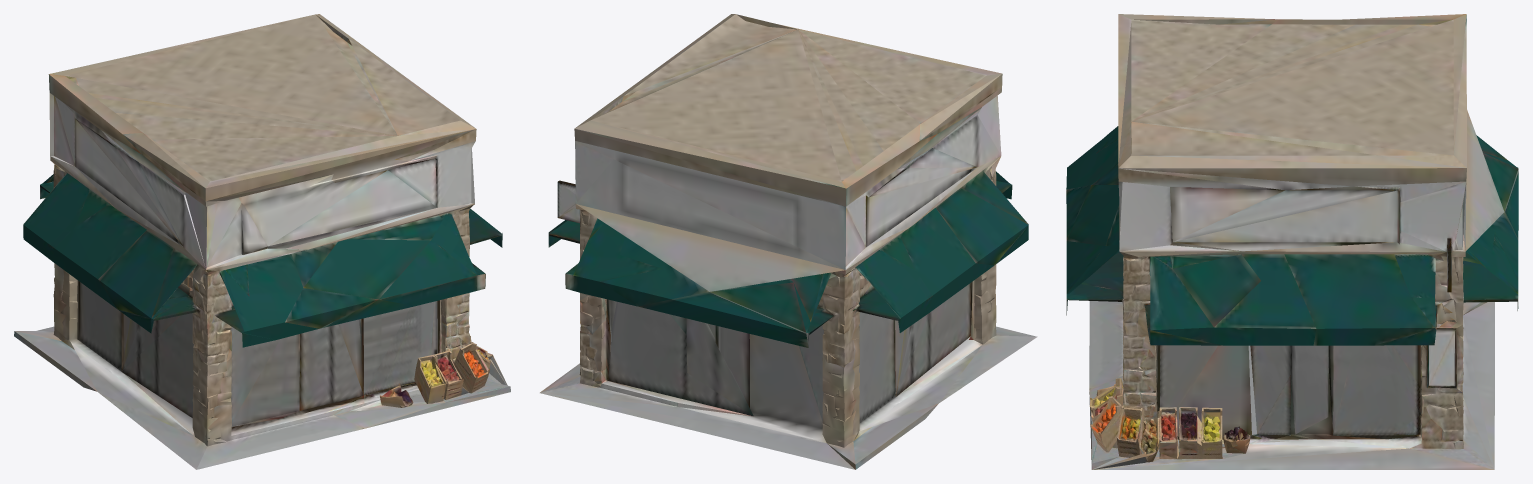
The model's file is filler_food_grocery.glb.
3 renders of one model, left to right at view 1: azimuth 30°, elevation 25°; view 2: azimuth 150°, elevation 25°; view 3: azimuth 270°, elevation 25°, orthographic. The views are drawn at different scales.
Visible parts, largest first — view 1: Mesh_0; view 2: Mesh_0; view 3: Mesh_0.
Part boxes in pixels (left/top/right/bottom): Mesh_0: left=14, top=14, right=510, bottom=469; Mesh_0: left=540, top=14, right=1037, bottom=469; Mesh_0: left=1066, top=14, right=1518, bottom=469.
Bounding box in the file's own units: 6.9 × 5 × 6.9.
1 material, 1 textured.
